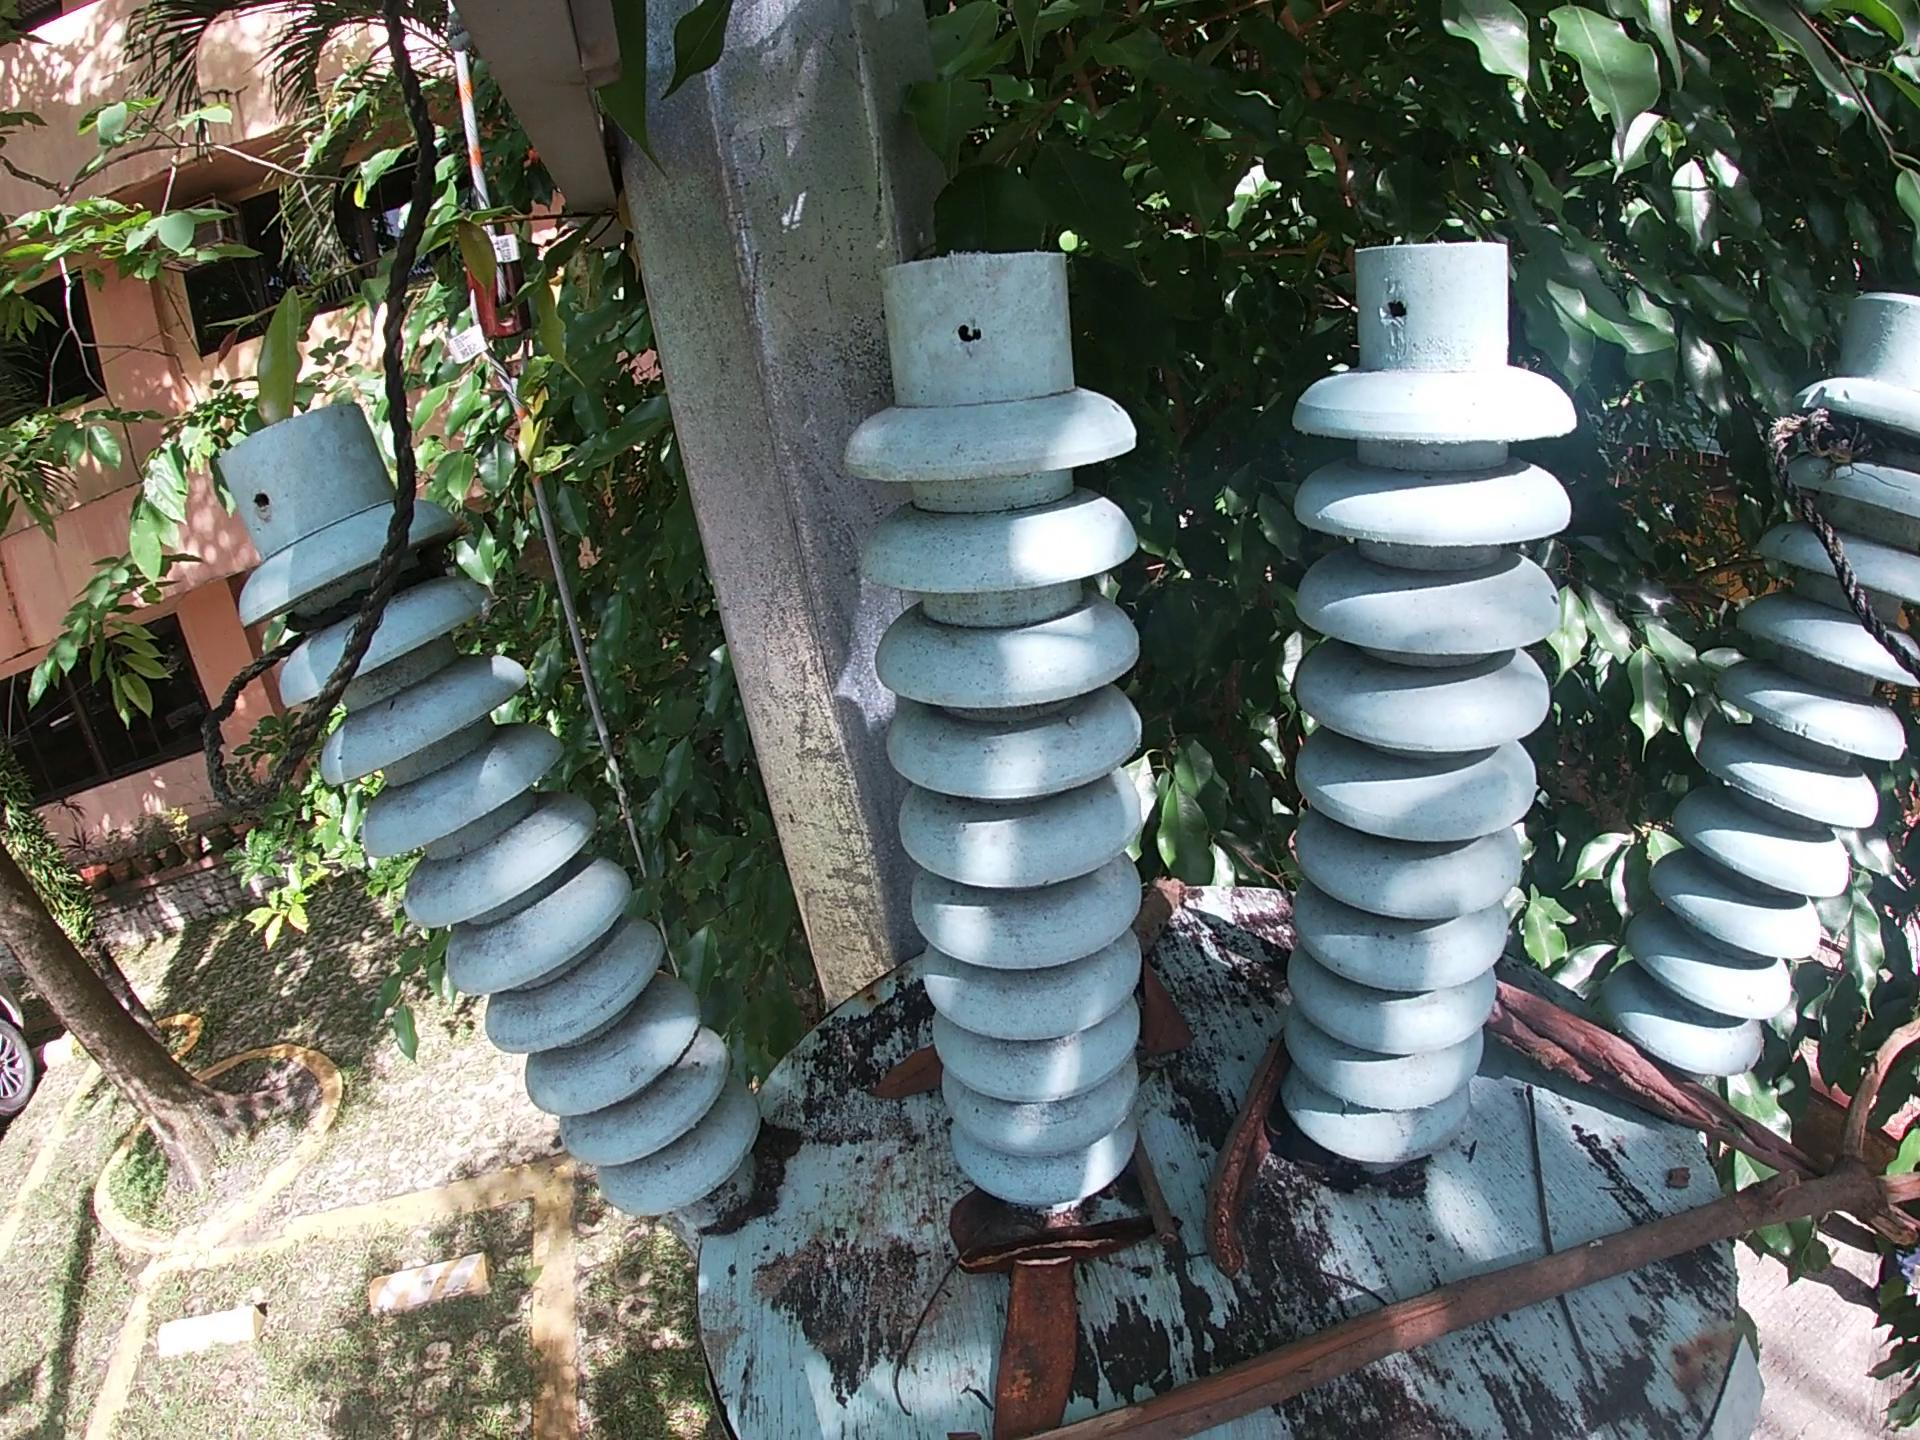leaf: (930, 1199, 1005, 1265), (1146, 976, 1191, 1072), (857, 1054, 931, 1113)
mahogany fruit: (971, 1251, 1117, 1438), (1222, 992, 1288, 1317)
tree branch: (1045, 1013, 1920, 1438), (1488, 985, 1817, 1159), (1519, 1078, 1628, 1387), (1120, 1137, 1215, 1274), (881, 1263, 954, 1422), (1129, 870, 1188, 959)
